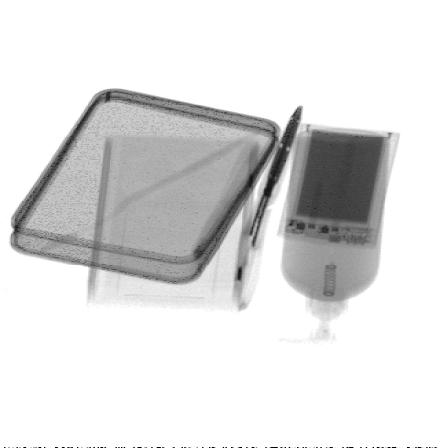Powerbank: (278, 122, 403, 250)
Scissors: (233, 102, 304, 312)
